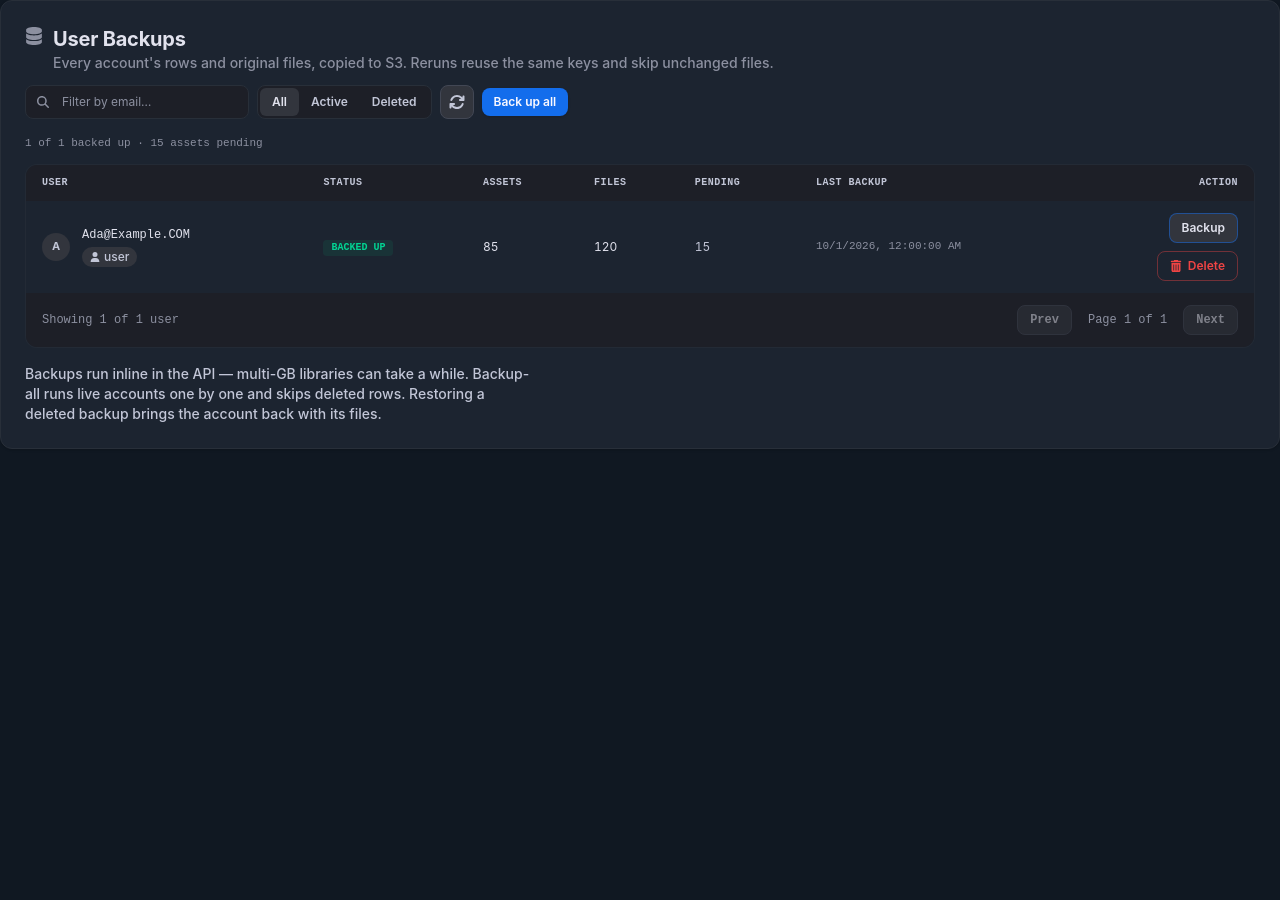
Test: BackupSection table › previews an encoded prefix for uppercase emails in the confirm dialog
This screenshot has width=1280, height=900.
Expected: the text "Ada@Example.COM" is shown, [82,226,190,242]
Click the button with aria-label "Back up Ada@Example.COM" at point(1203, 228), box [1168,212,1238,242]
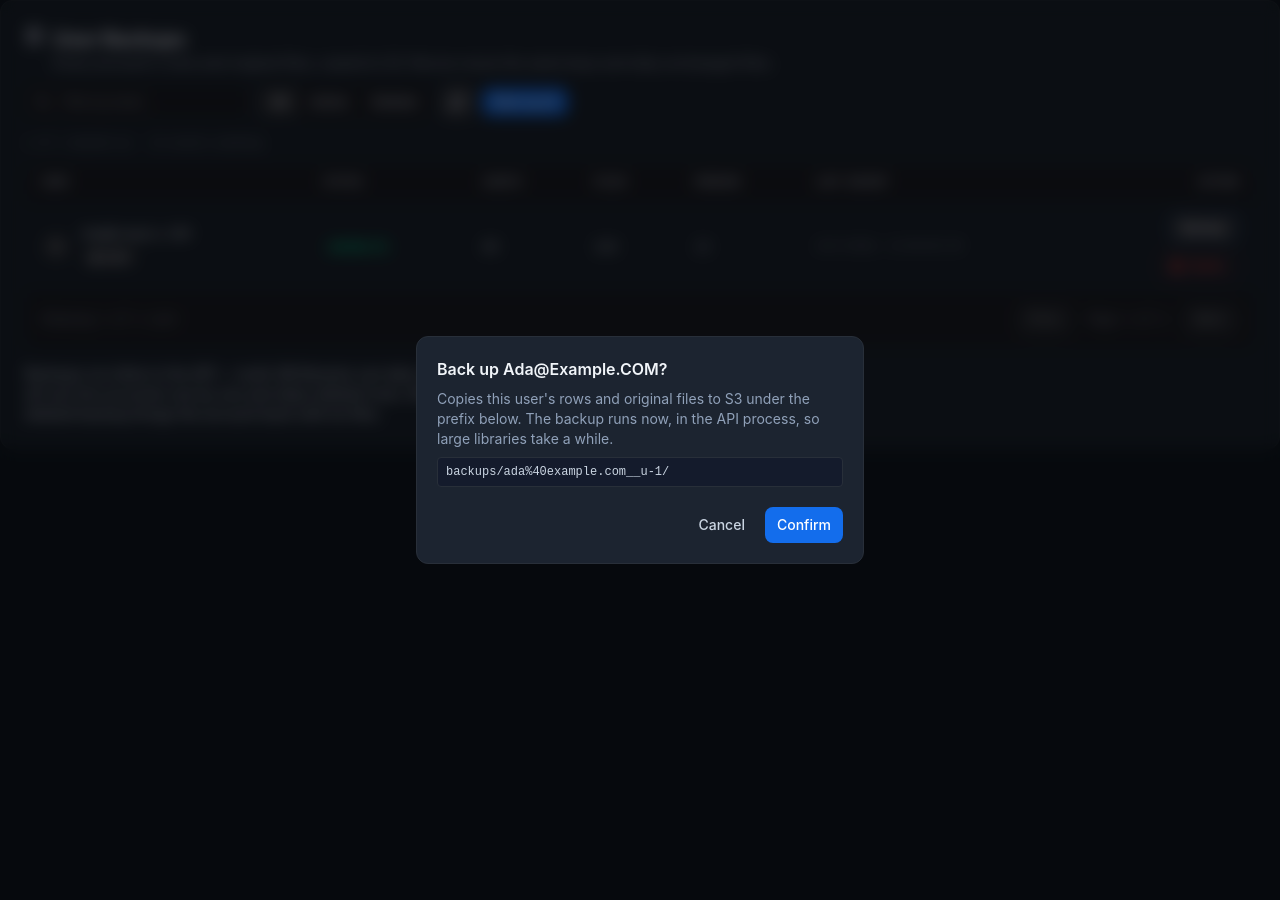
Expected: the heading "Back up Ada@Example.COM?" is shown, [437,359,668,379]
Expected: the text "backups/ada%40example.com__u-1/" is shown, [437,457,843,487]
